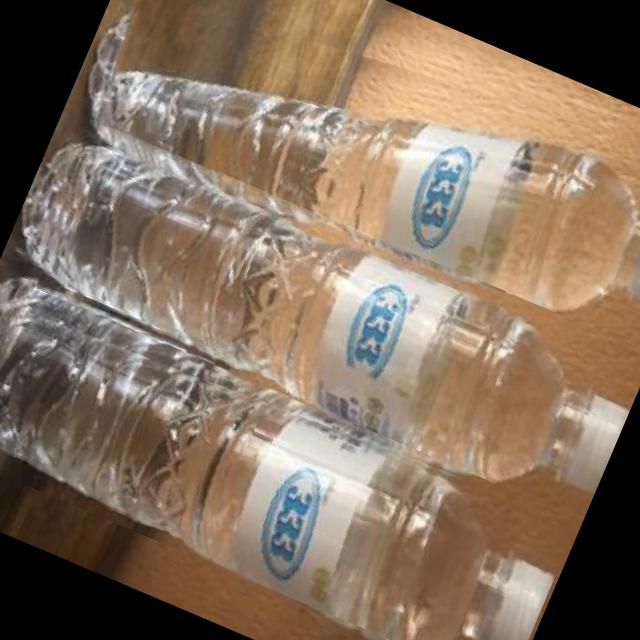plastic bottle: (19, 114, 640, 520), (75, 0, 640, 379), (0, 286, 576, 640)
